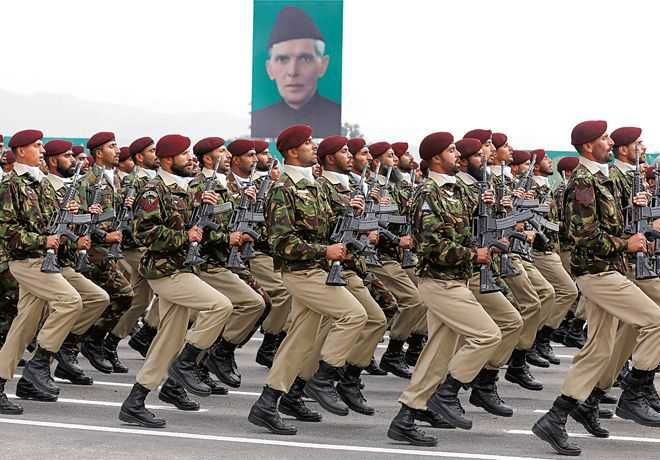gun: (459, 154, 526, 292), (323, 166, 381, 290), (611, 139, 660, 285), (502, 151, 565, 256), (181, 155, 228, 289), (90, 166, 143, 272), (235, 161, 277, 282), (44, 154, 87, 270), (81, 168, 105, 284)
uniform: (542, 88, 654, 421), (314, 120, 418, 398), (131, 117, 224, 406), (406, 115, 492, 418), (269, 123, 353, 407), (457, 123, 537, 419), (1, 123, 84, 403), (184, 134, 271, 388), (77, 125, 131, 381)
